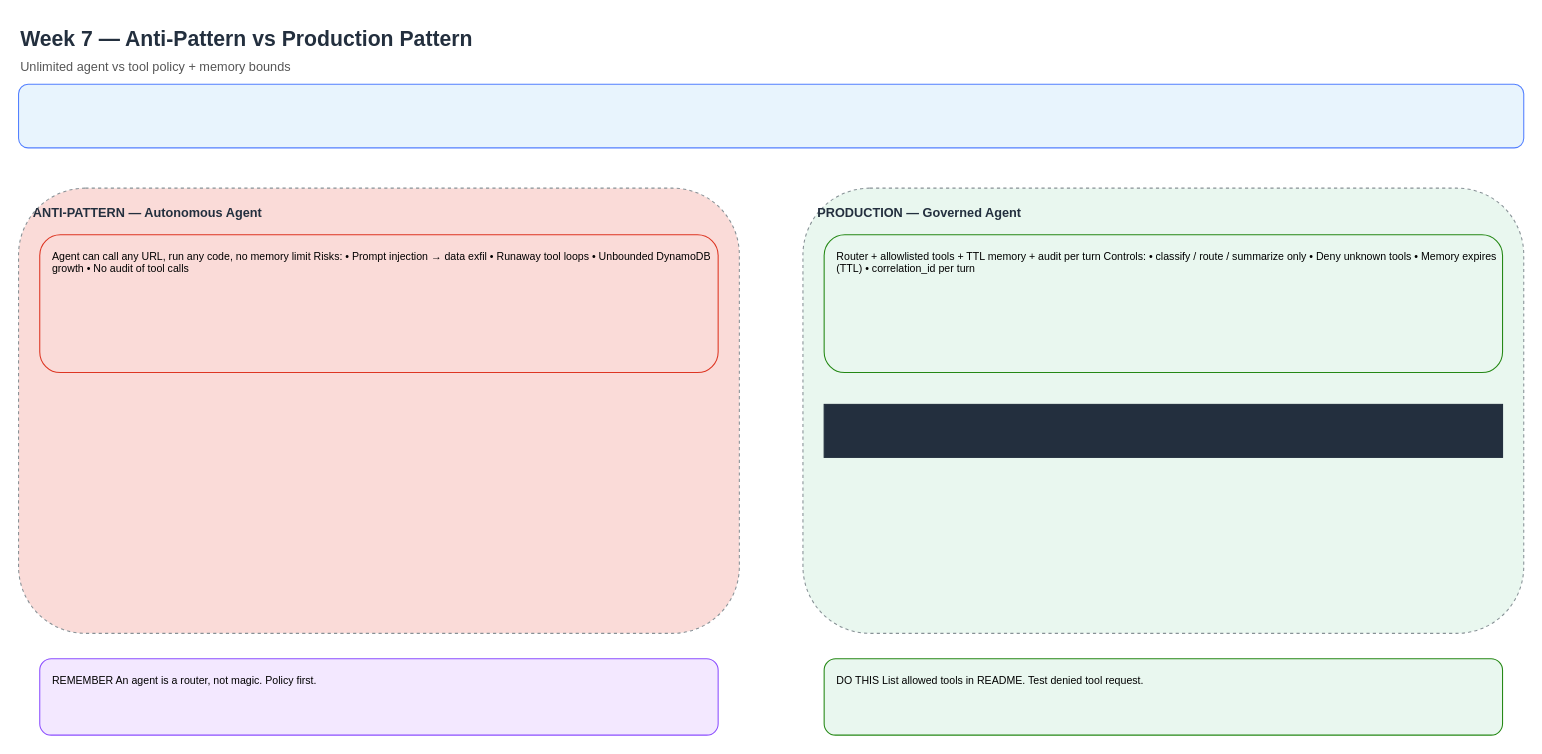
Some shapes in this 1542 by 754 pixel diagram are drawn without their labels. The shapes that lost their labels are listed below. From the top down, each one's centre as x and y in pixels, then its label:
(770,115): YOUR GOAL Agents need boundaries — same as any production API.
(1163,430): Tool policy = IAM mindset for agents
